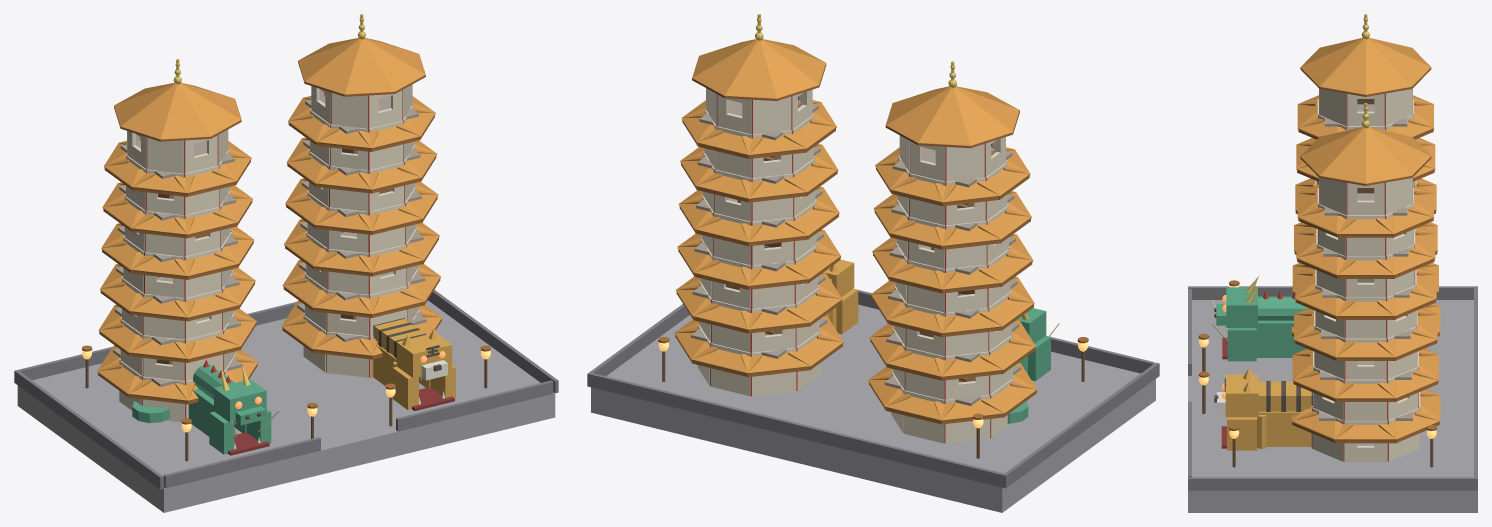
The model's file is island.glb.
3 views of the same model, side by side, from view 1: azimuth 30°, elevation 25°; view 2: azimuth 150°, elevation 25°; view 3: azimuth 270°, elevation 25° (orthographic). The views are drawn at different scales.
Parts seen in each view (by area): view 1: Platform-col, DragonTowerRoof-col, TigerTowerRoof-col, TigerTowerBody-col, DragonTowerBody-col, DragonStatue-col, TigerStatue-col, DragonStatueDeco, TigerStatueDeco, Lanterns; view 2: Platform-col, TigerTowerRoof-col, DragonTowerRoof-col, TigerTowerBody-col, DragonTowerBody-col, TigerStatue-col, DragonStatue-col, Lanterns; view 3: Platform-col, TigerTowerRoof-col, TigerTowerBody-col, DragonTowerRoof-col, TigerStatue-col, DragonStatue-col, DragonTowerBody-col, TigerStatueDeco, DragonStatueDeco, Lanterns.
Part boxes in pixels (x1,y1,x2,y2): Platform-col: (14,290,558,512); DragonTowerRoof-col: (97,82,258,404); TigerTowerRoof-col: (281,38,442,359); TigerTowerBody-col: (297,84,426,377); DragonTowerBody-col: (113,129,242,422); DragonStatue-col: (188,379,271,455); TigerStatue-col: (371,334,455,410); DragonStatueDeco: (132,359,279,449); TigerStatueDeco: (373,318,447,404); Lanterns: (82,345,490,461); Platform-col: (587,290,1159,512); TigerTowerRoof-col: (674,39,843,377); DragonTowerRoof-col: (868,86,1037,424); TigerTowerBody-col: (691,88,827,396); DragonTowerBody-col: (884,135,1020,443); TigerStatue-col: (824,259,858,334); DragonStatue-col: (1017,308,1050,381); Lanterns: (658,337,1088,458); Platform-col: (1188,286,1477,512); TigerTowerRoof-col: (1291,127,1440,443); TigerTowerBody-col: (1311,177,1420,461); DragonTowerRoof-col: (1291,37,1440,336); TigerStatue-col: (1221,374,1311,450); DragonStatue-col: (1222,287,1306,361); DragonTowerBody-col: (1315,88,1416,185); TigerStatueDeco: (1214,368,1312,441); DragonStatueDeco: (1211,276,1307,352); Lanterns: (1198,280,1436,467).
Size of what is drawn, in the model's own units: 34.6 by 30.1 by 22.
